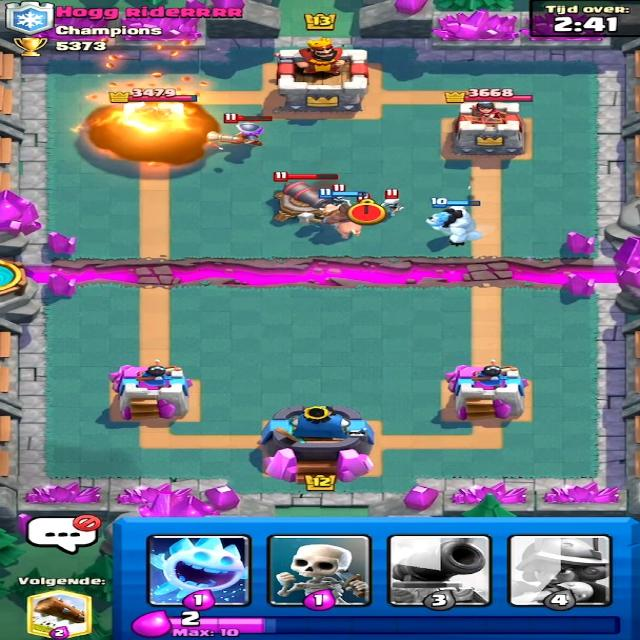Cannon_Card: (384, 535, 492, 605)
Enemy_Cannon_Troop: (265, 182, 337, 223)
Enemy_Musketeer_Troop: (204, 118, 271, 152)
Enemy_Skeleton_Troop: (381, 194, 409, 217)
Hog_Rider_Troop: (312, 200, 372, 244)
Ice_Golem_Troop: (424, 205, 485, 244)
Ice_Spirit_Card: (146, 531, 253, 608)
Musketeer_Card: (508, 534, 610, 606)
Skeleton_Card: (264, 533, 376, 609)
